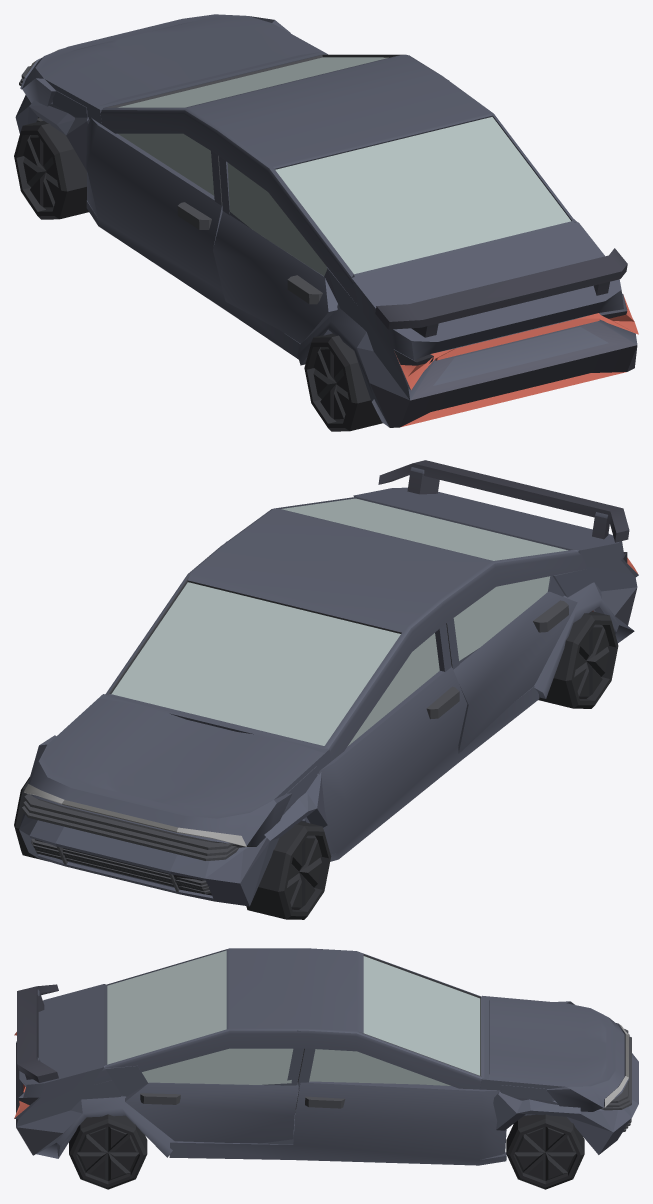
File: Elantra Colored FInal.fbx
3 renders of one model, top to bottom at view 1: azimuth 30°, elevation 25°; view 2: azimuth 150°, elevation 25°; view 3: azimuth 270°, elevation 25°, orthographic. The views are drawn at different scales.
Parts seen in each view (by area): view 1: pasted__pCube12, pasted__pCube17, pasted__pCube19, pasted__pCube18, pasted__pCube38, pasted__pCylinder1, pasted__pCylinder4, pasted__pCube3, pasted__pCube39, pasted__pCube20, pasted__pCube33; view 2: pasted__pCube12, pasted__pCube17, pasted__pCube19, pasted__pCube20, pasted__pCube18, pasted__pCylinder1, pasted__pCylinder4, pasted__pCube38, pasted__pCube3, pasted__pCube39, pasted__pCube26, pasted__pCube25 (+4 smaller); view 3: pasted__pCube12, pasted__pCube21, pasted__pCube17, pasted__pCube22, pasted__pCylinder6, pasted__pCylinder7, pasted__pCube20, pasted__pCube13, pasted__pCube40, pasted__pCube38, pasted__pCube16, pasted__pCube36 (+3 smaller).
Boxes of the visible parts, x1,y1,x2,y2 form: pasted__pCube12: (100,54,638,427); pasted__pCube17: (20,14,327,124); pasted__pCube19: (86,117,300,359); pasted__pCube18: (213,211,337,343); pasted__pCube38: (375,248,627,329); pasted__pCylinder1: (14,121,88,219); pasted__pCylinder4: (304,333,382,431); pasted__pCube3: (227,163,327,275); pasted__pCube39: (118,133,214,195); pasted__pCube20: (15,90,90,171); pasted__pCube33: (287,275,322,304); pasted__pCube12: (105,467,638,761); pasted__pCube17: (24,694,330,847); pasted__pCube19: (304,666,539,861); pasted__pCube20: (19,766,327,906); pasted__pCube18: (453,591,577,753); pasted__pCylinder1: (246,821,331,919); pasted__pCylinder4: (538,611,618,708); pasted__pCube38: (378,460,629,542); pasted__pCube3: (453,576,550,663); pasted__pCube39: (347,633,439,746); pasted__pCube26: (24,793,233,849); pasted__pCube25: (23,801,237,855); pasted__pCube12: (14,948,484,1158); pasted__pCube21: (169,1081,506,1165); pasted__pCube17: (479,995,628,1111); pasted__pCube22: (125,1082,298,1143); pasted__pCylinder6: (506,1114,584,1189); pasted__pCylinder7: (69,1114,147,1189); pasted__pCube20: (493,1053,638,1154); pasted__pCube13: (142,1048,293,1085); pasted__pCube40: (309,1049,450,1085); pasted__pCube38: (17,984,58,1082); pasted__pCube16: (105,1065,147,1096); pasted__pCube36: (140,1093,180,1104).
Bounding box in the file's own units: 11.59 × 8.22 × 30.68.
